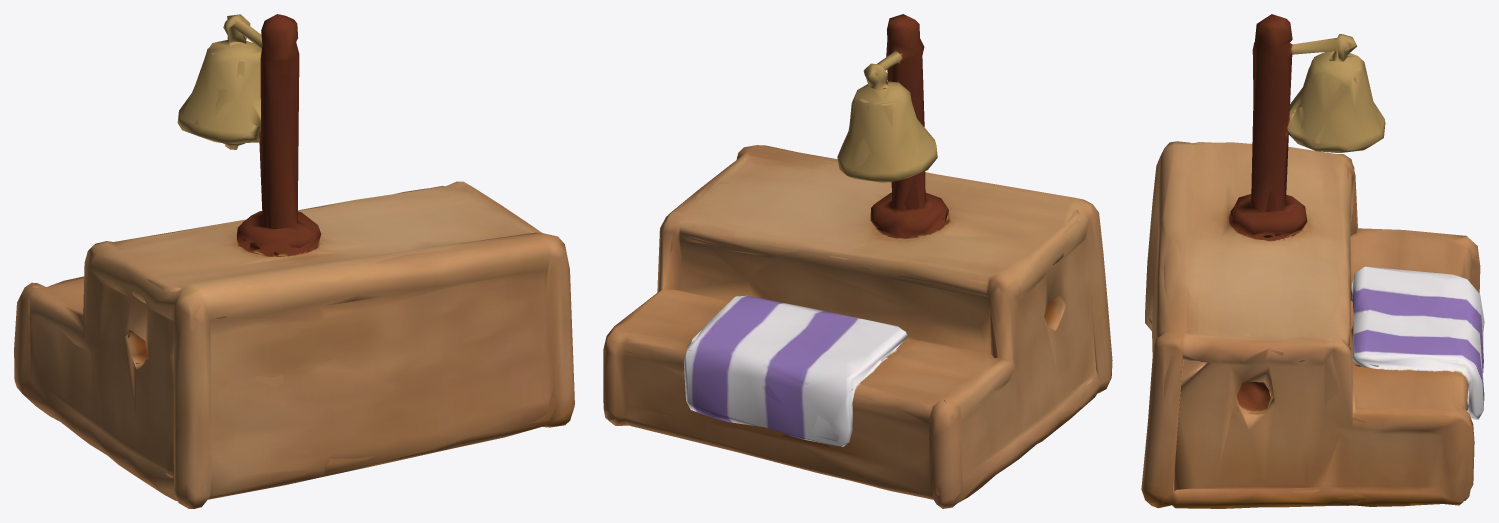
The model's file is referee-stand.glb.
3 renders of one model, left to right at view 1: azimuth 30°, elevation 25°; view 2: azimuth 150°, elevation 25°; view 3: azimuth 270°, elevation 25°, orthographic. The views are drawn at different scales.
Bounding box in the file's own units: 1.4 × 1.42 × 1.13.
1 material, 1 textured.
